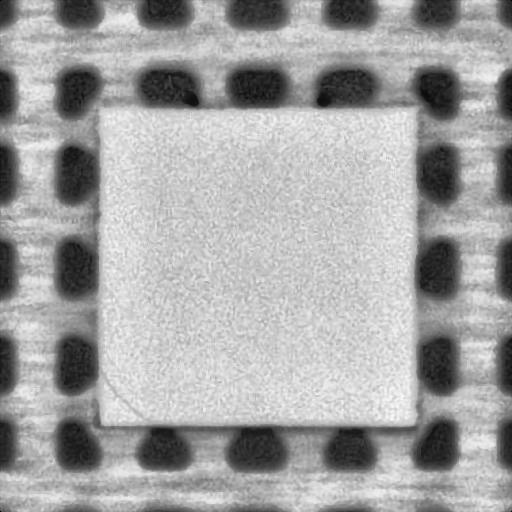DIE_CRACK: (96, 356, 156, 422)
